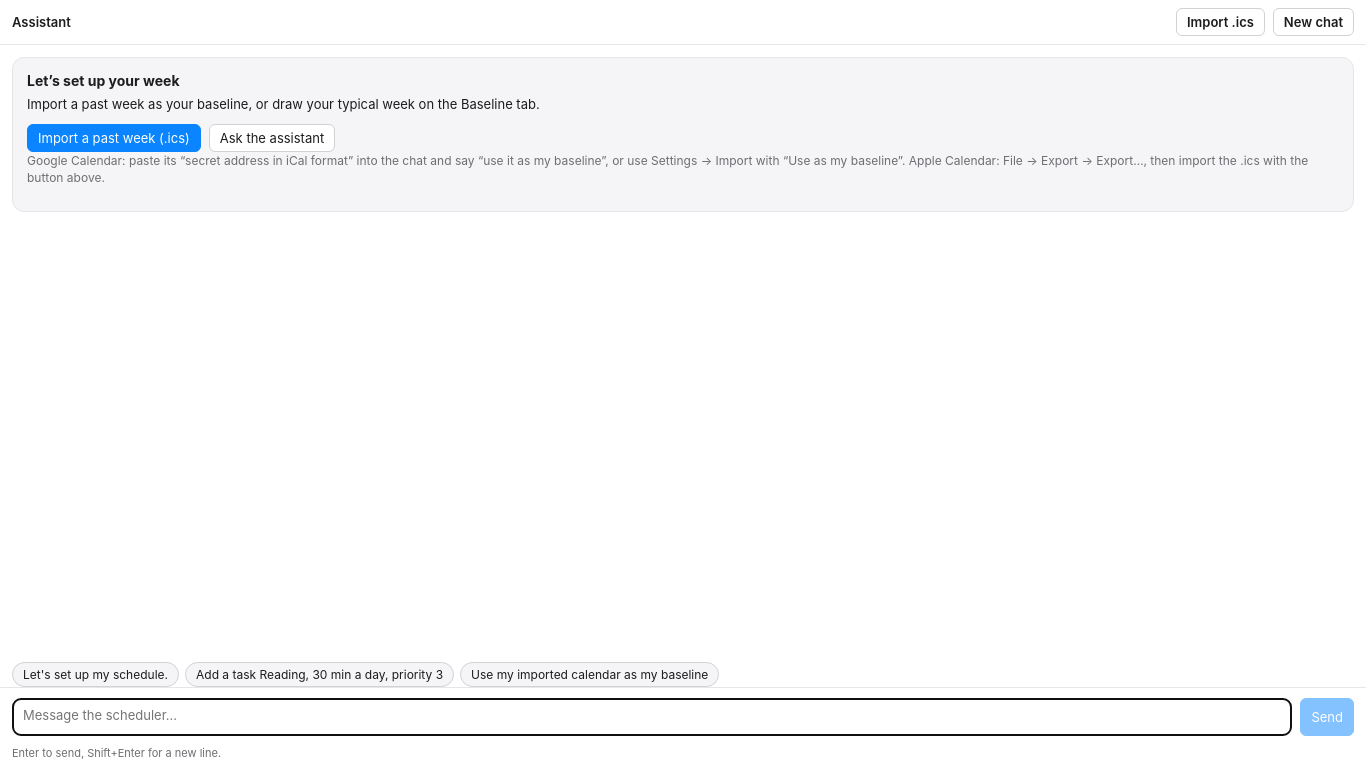
Test: ChatPanel: starter bubbles › without a baseline the setup chips are shown and a click prefills the box without sending
The width and height of the screenshot is (1366, 768).
What coordinates should you click on to do the following:
click the button "Add a task Reading, 30 min a day, priority 3"
I would click on:
 (320, 674)
Its box is [185,662,454,687].
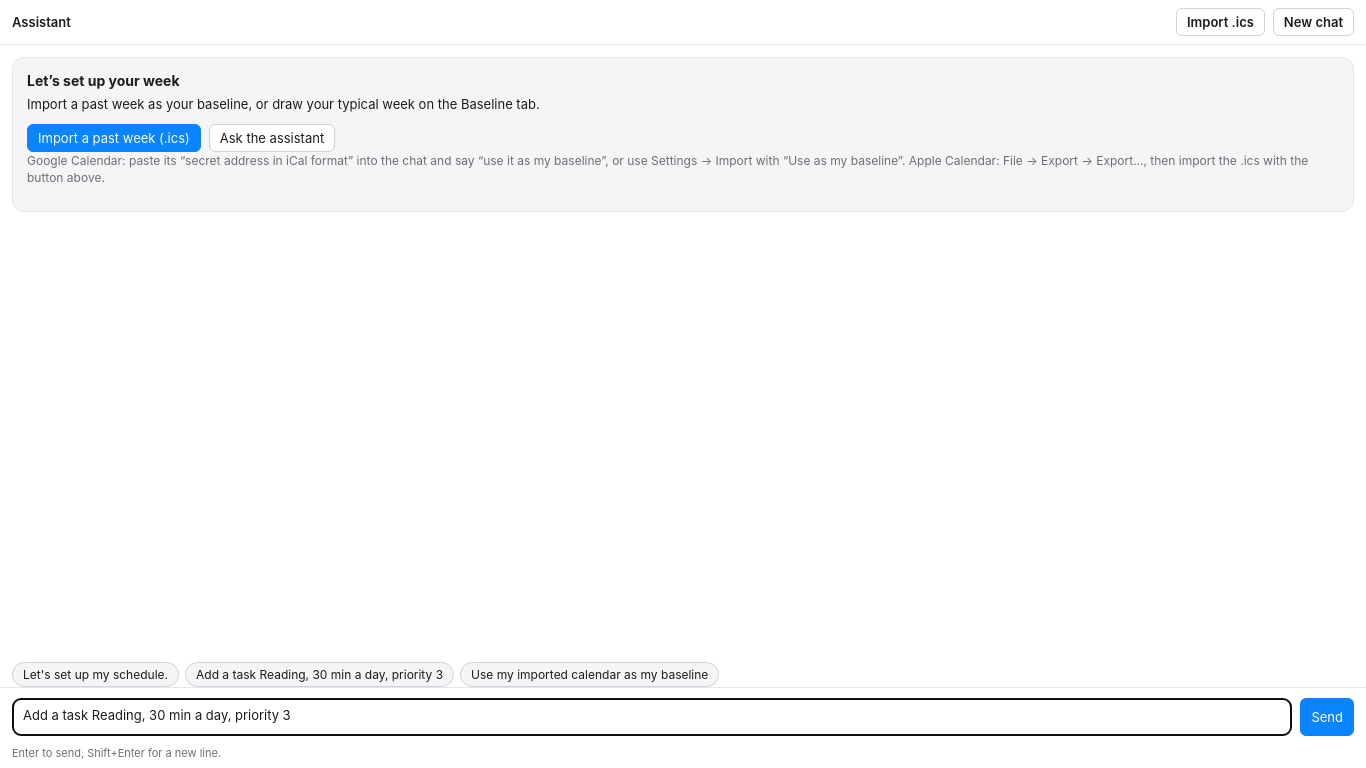
Expected: the text box with placeholder "Message the scheduler…" holds "Add a task Reading, 30 min a day, priority 3", [12,698,1292,736]
